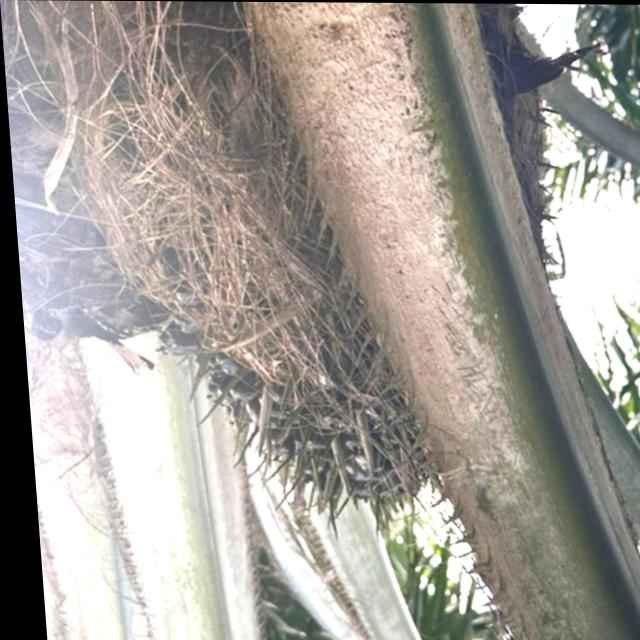almost: (84, 59, 441, 552)
